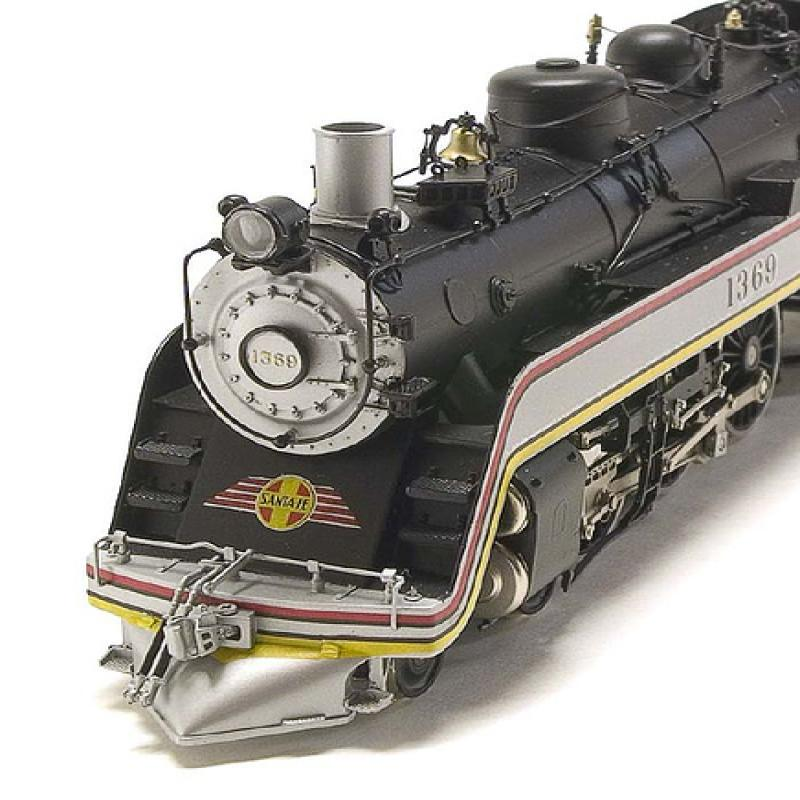train: (72, 2, 800, 756)
